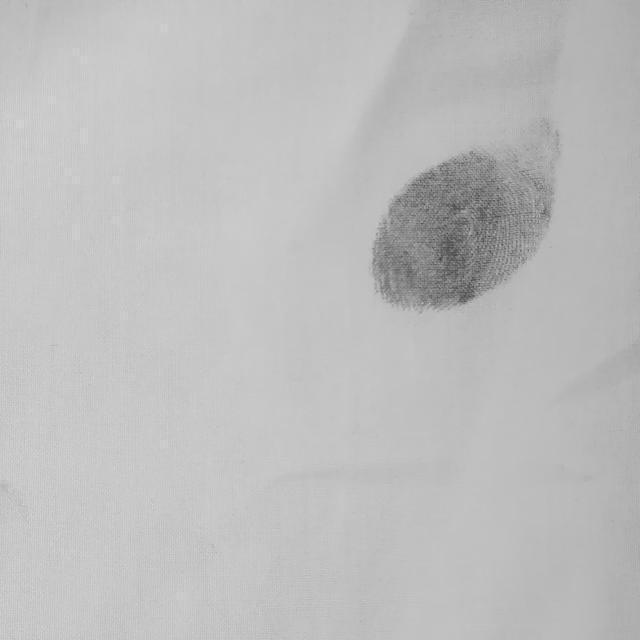Thread_other: (337, 106, 598, 330)
